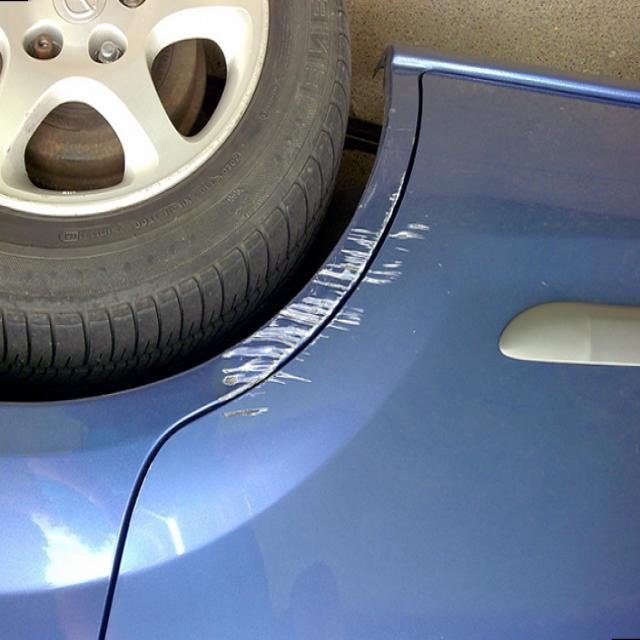scratch: (214, 178, 441, 432)
